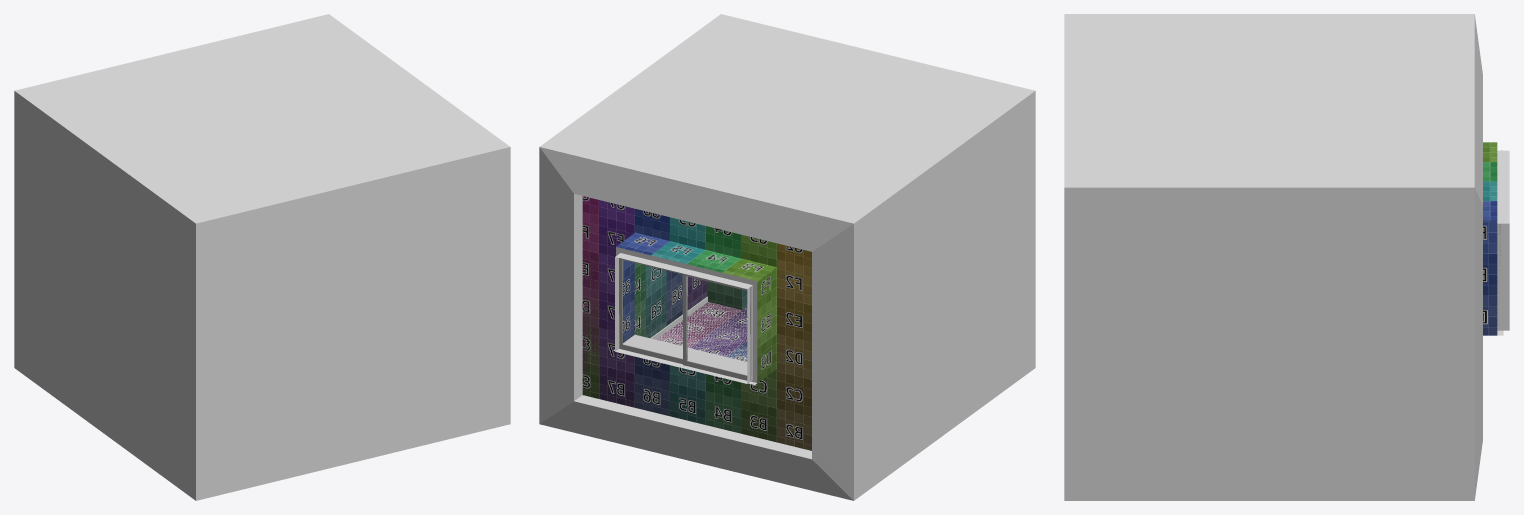
The picture shows the model from 3 angles, left to right: view 1: azimuth 30°, elevation 25°; view 2: azimuth 150°, elevation 25°; view 3: azimuth 270°, elevation 25°; orthographic projection. The views are drawn at different scales.
Parts seen in each view (by area): view 1: __LIGHT_BLOCKER__; view 2: __LIGHT_BLOCKER__, wall, wall.001, floor, Pillar (×2), __ROOM_FLOOR__floor, Window; view 3: __LIGHT_BLOCKER__, wall.
Part boxes in pixels (left/top/right/bottom): __LIGHT_BLOCKER__: left=14, top=14, right=510, bottom=500; __LIGHT_BLOCKER__: left=539, top=14, right=1035, bottom=500; wall: left=582, top=196, right=811, bottom=450; wall.001: left=634, top=263, right=707, bottom=338; floor: left=657, top=302, right=747, bottom=361; Pillar (×2): left=582, top=198, right=747, bottom=398; __ROOM_FLOOR__floor: left=656, top=302, right=747, bottom=361; Window: left=619, top=258, right=751, bottom=381; __LIGHT_BLOCKER__: left=1064, top=14, right=1482, bottom=500; wall: left=1483, top=142, right=1509, bottom=335.
Size of what is drawn, in the model's own units: 3.33 by 2.81 by 3.62.
10 materials, 5 textured.
